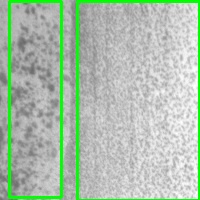pitted_surface: (77, 1, 199, 200), (9, 1, 61, 197)
